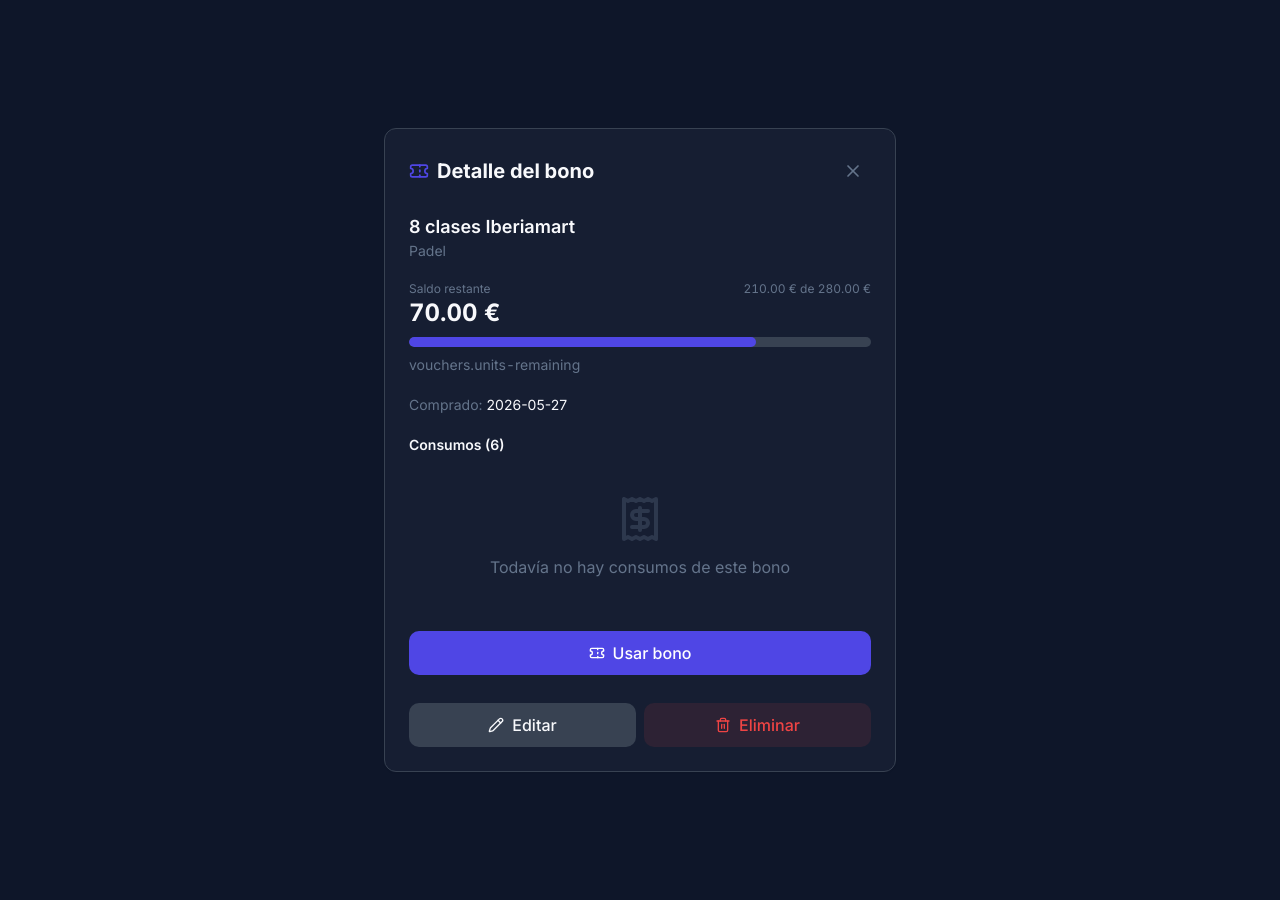
VoucherDetailModal — quick-consume flow › shows a success toast and closes the form after submit
Click the button "Usar bono".
click(640, 653)  # box x1=409 y1=631 x2=871 y2=675
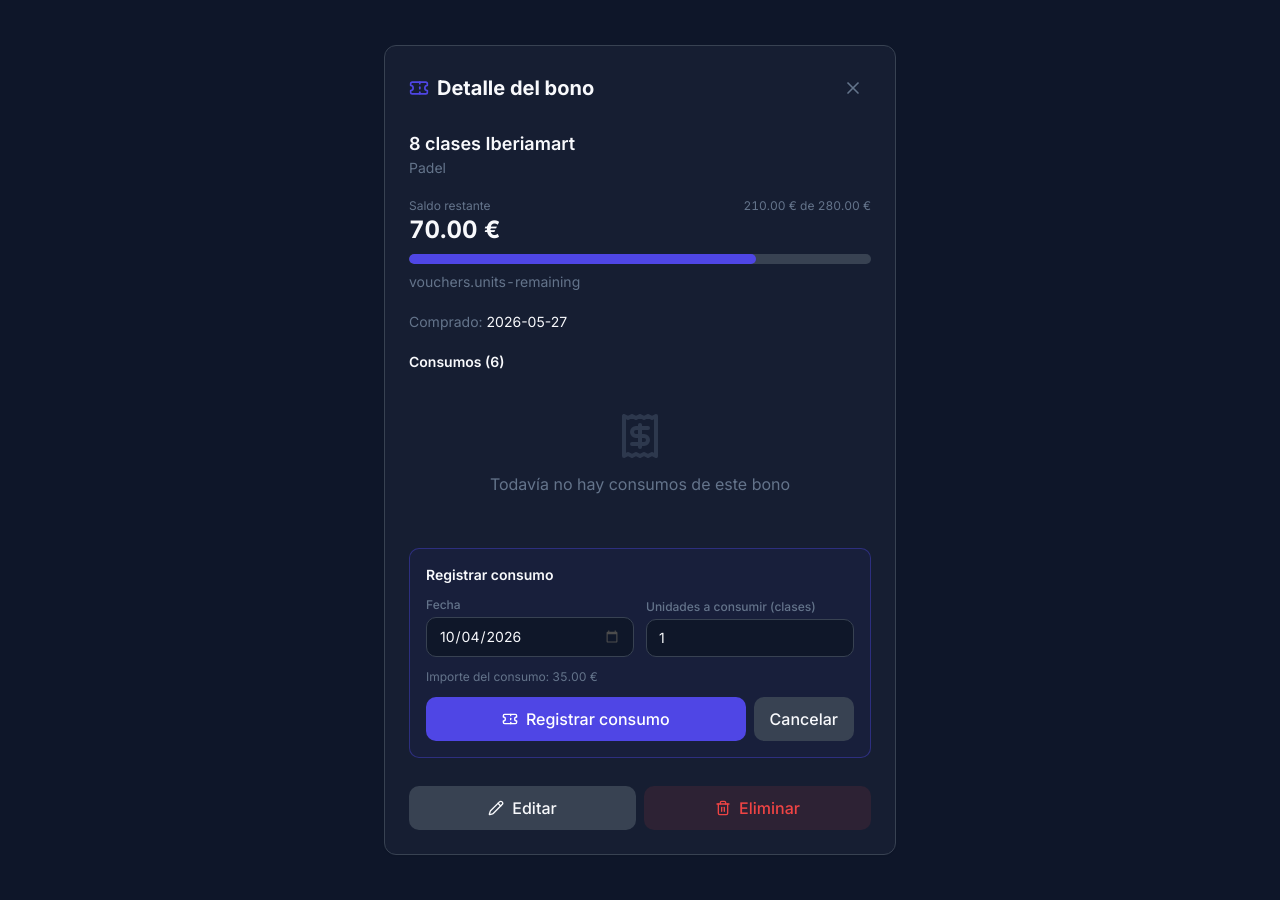
Click the button "Registrar consumo".
click(586, 719)  # box x1=426 y1=697 x2=746 y2=741
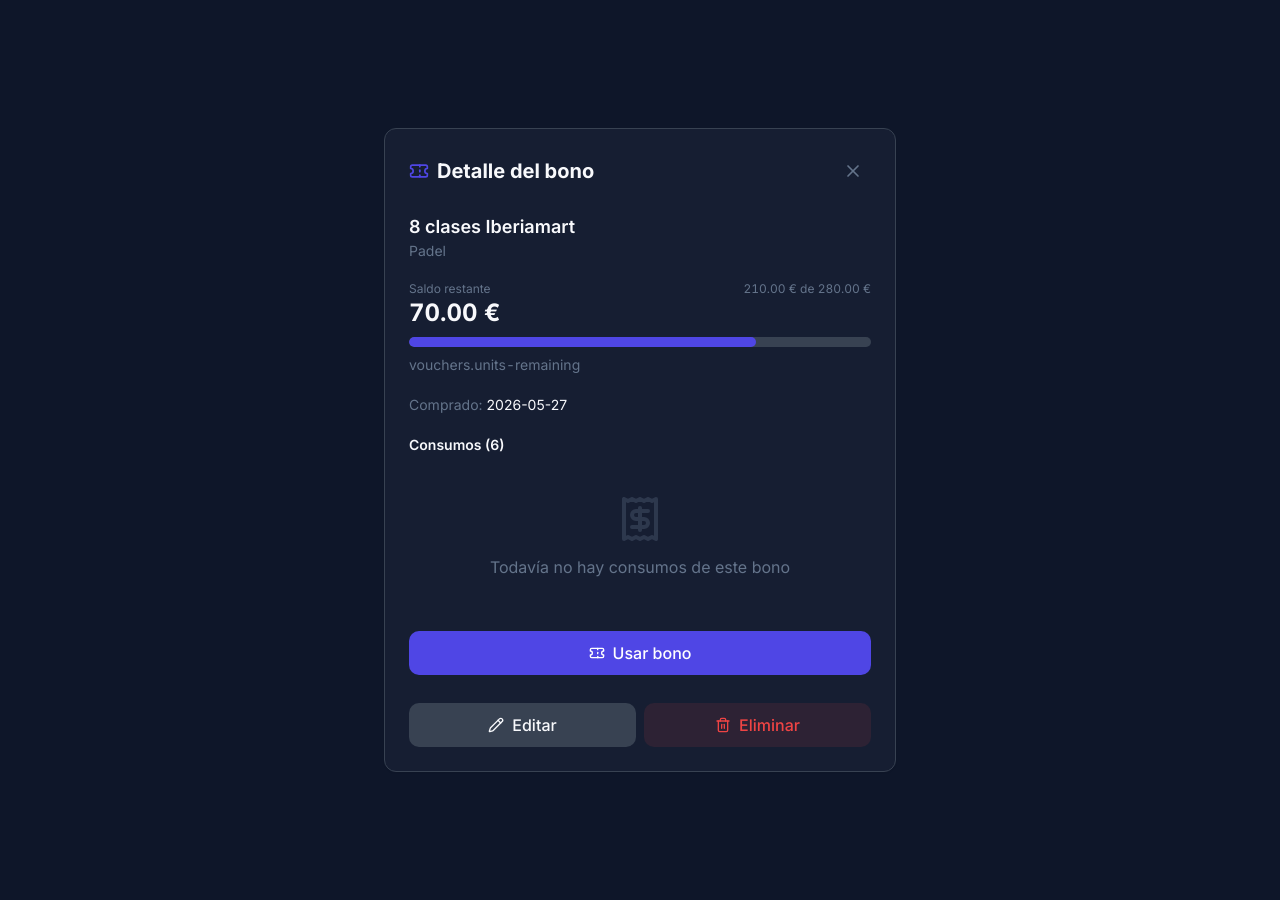
Expected: the button "Usar bono" is shown, x1=409 y1=631 x2=871 y2=675
Expected: the text "Registrar consumo" is gone
